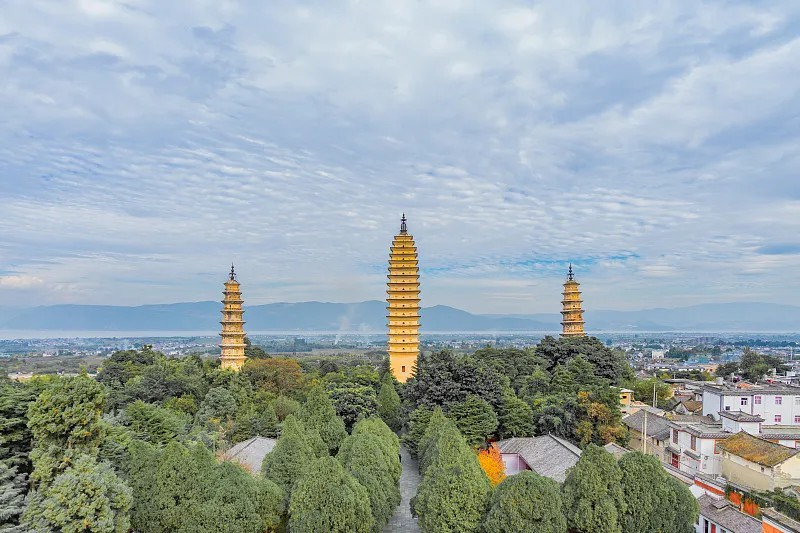ThreePagoda: (386, 214, 421, 385)
